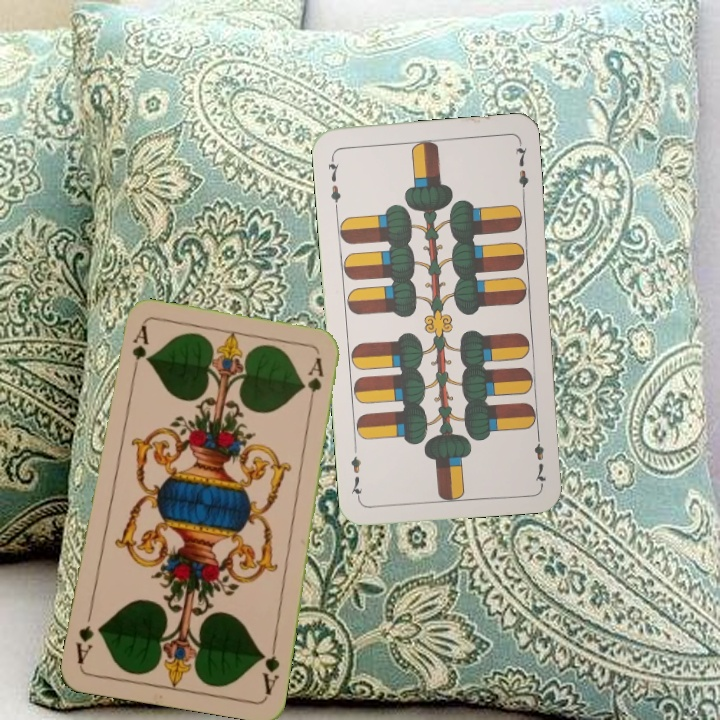E7: (323, 152, 344, 211), (530, 427, 548, 486)
GA: (257, 638, 283, 697), (128, 322, 150, 381)
